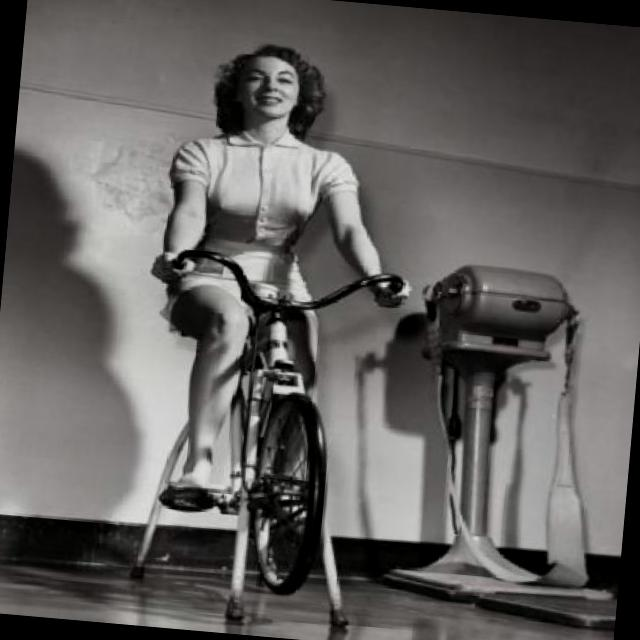Person: (81, 0, 440, 606)
